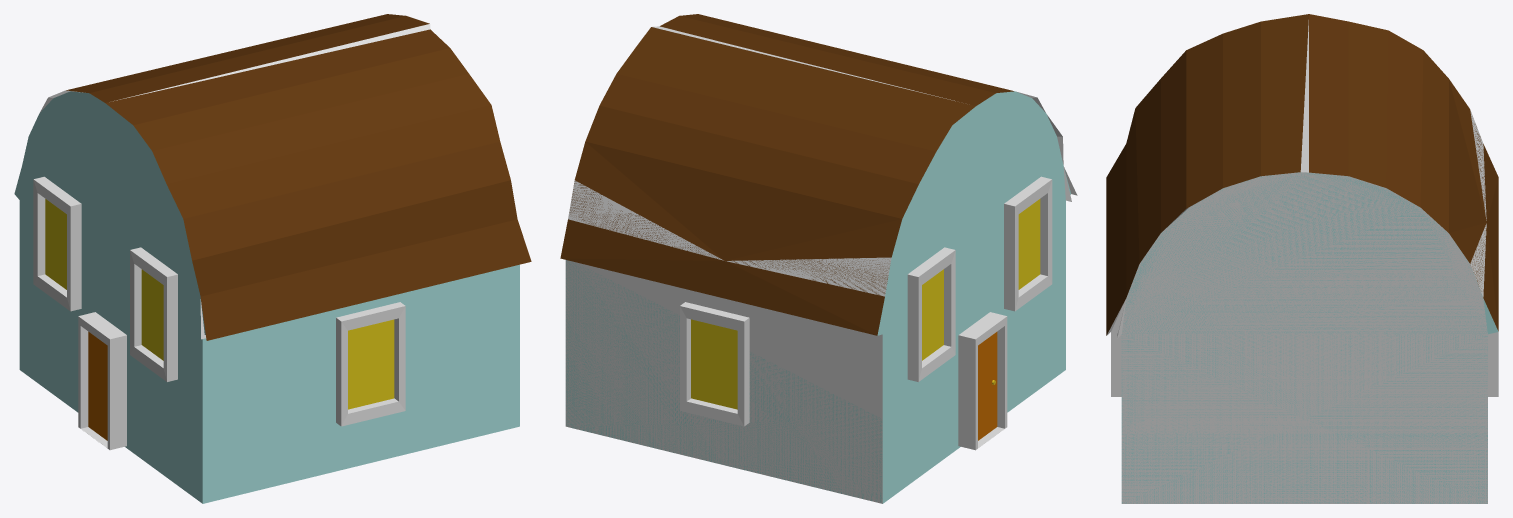
Rendered from house2.glb.
3 renders of one model, left to right at view 1: azimuth 30°, elevation 25°; view 2: azimuth 150°, elevation 25°; view 3: azimuth 270°, elevation 25°, orthographic.
Parts seen in each view (by area): view 1: Cube; view 2: Cube; view 3: Cube.
Part boxes in pixels (x1,y1,x2,y2): Cube: (14,14,531,503); Cube: (560,14,1077,503); Cube: (1106,14,1498,503).
Size of the model in its own units: 4 by 3.77 by 4.02.
